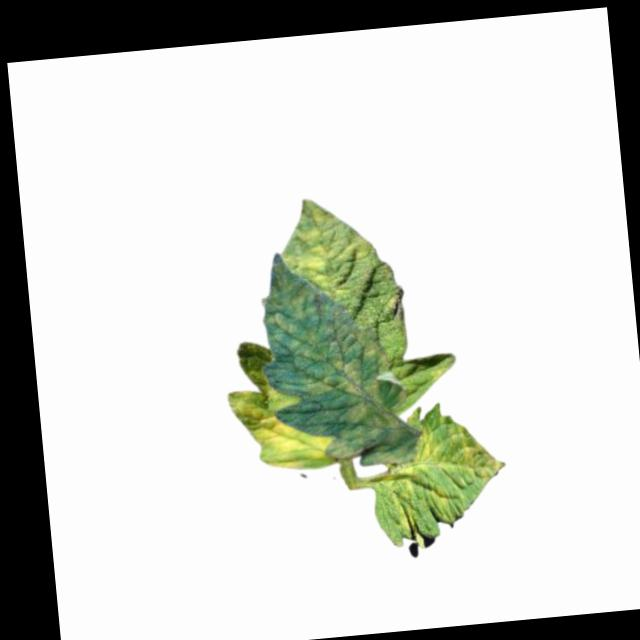Leaf_Mold: (265, 290, 399, 462), (382, 413, 513, 550), (276, 193, 379, 302), (226, 380, 338, 475)
